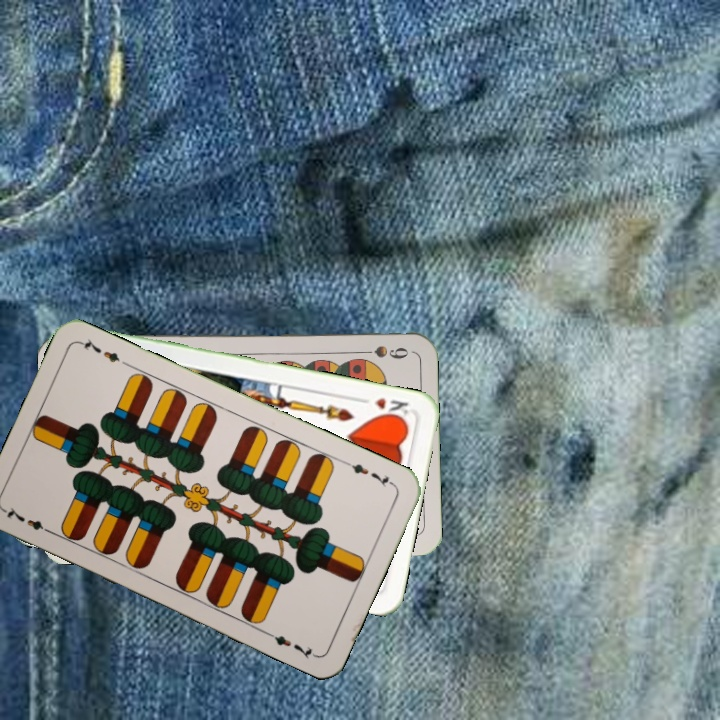E7: (1, 503, 57, 537), (341, 457, 397, 490)
HK: (371, 393, 411, 423)
S9: (352, 342, 411, 362)
